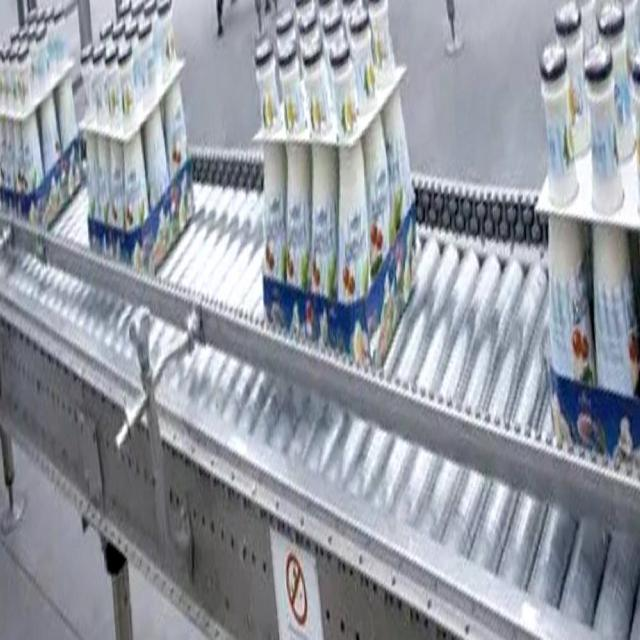bottle: (251, 0, 418, 372), (538, 0, 640, 463), (74, 1, 197, 280)
